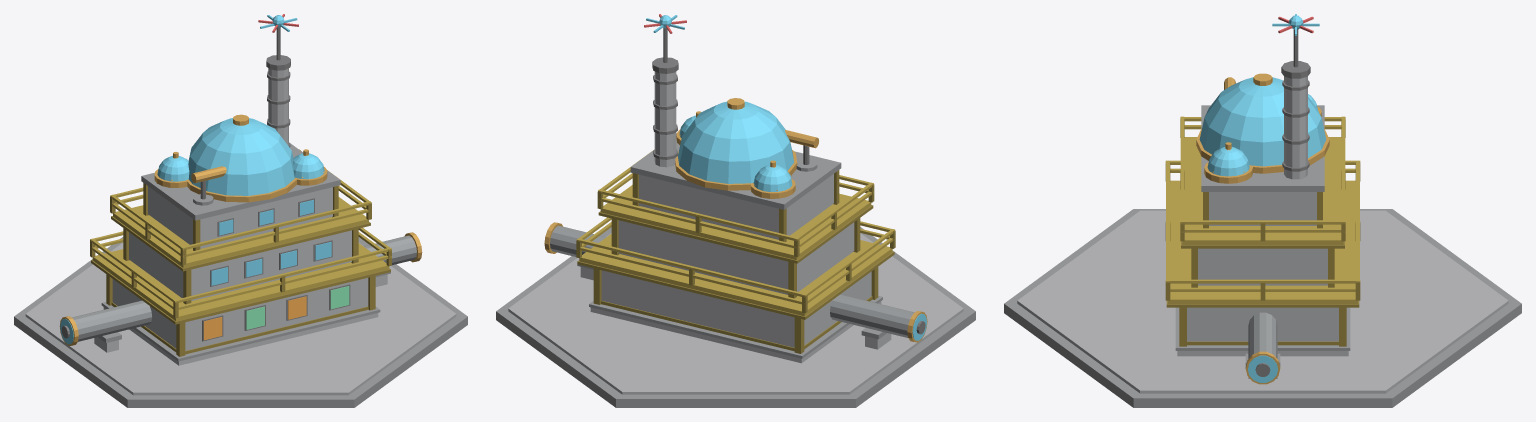
The model's file is research_building_s2_100.glb.
The picture shows the model from 3 angles, left to right: view 1: azimuth 30°, elevation 25°; view 2: azimuth 150°, elevation 25°; view 3: azimuth 270°, elevation 25°; orthographic projection. The views are drawn at different scales.
Parts seen in each view (by area): view 1: R_FoundRim, R_Foundation, R_DomeMain, R_MF_Walls, R_GF_Walls, R_Balcony1, R_UF_Walls, R_Balcony2, R_UFRoof, R_PipeStubW, R_PlinthCap, R_Plinth (+15 smaller); view 2: R_FoundRim, R_Foundation, R_GF_Walls, R_DomeMain, R_MF_Walls, R_UF_Walls, R_Balcony1, R_Balcony2, R_UFRoof, R_PipeStubW, R_Chimney, R_PlinthCap (+14 smaller); view 3: R_FoundRim, R_Foundation, R_DomeMain, R_Balcony1, R_Balcony2, R_GF_Walls, R_MF_Walls, R_UF_Walls, R_UFRoof, R_Chimney, R_PlinthCap, R_PipeStubE (+15 smaller).
Boxes of the visible parts, box(x1,y1,x2,y2) form: R_FoundRim: box(25, 242, 456, 395); R_Foundation: box(14, 237, 467, 407); R_DomeMain: box(188, 118, 294, 195); R_MF_Walls: box(129, 230, 351, 300); R_GF_Walls: box(112, 278, 368, 350); R_Balcony1: box(92, 243, 389, 321); R_UF_Walls: box(148, 186, 332, 248); R_Balcony2: box(113, 197, 368, 267); R_UFRoof: box(141, 143, 340, 220); R_PipeStubW: box(72, 300, 151, 341); R_PlinthCap: box(101, 302, 380, 361); R_Plinth: box(103, 307, 378, 365); R_FoundRim: box(508, 233, 963, 394); R_Foundation: box(496, 227, 975, 407); R_GF_Walls: box(601, 270, 871, 347); R_DomeMain: box(677, 101, 794, 183); R_MF_Walls: box(618, 220, 854, 294); R_UF_Walls: box(639, 174, 833, 239); R_Balcony1: box(579, 234, 892, 316); R_Balcony2: box(600, 185, 871, 259); R_UFRoof: box(630, 139, 841, 209); R_PipeStubW: box(830, 294, 914, 337); R_Chimney: box(654, 71, 676, 167); R_PlinthCap: box(589, 296, 882, 358); R_FoundRim: box(1017, 210, 1508, 393); R_Foundation: box(1004, 209, 1521, 407); R_DomeMain: box(1199, 77, 1326, 166); R_Balcony1: box(1168, 180, 1357, 303); R_Balcony2: box(1182, 137, 1343, 244); R_GF_Walls: box(1187, 307, 1338, 341); R_MF_Walls: box(1198, 248, 1327, 285); R_UF_Walls: box(1209, 192, 1316, 225); R_UFRoof: box(1201, 105, 1324, 191); R_Chimney: box(1284, 76, 1307, 179); R_PlinthCap: box(1175, 307, 1350, 350); R_PipeStubE: box(1248, 312, 1277, 358).
Size of the model in its own units: 3.51 by 2.73 by 3.92.
